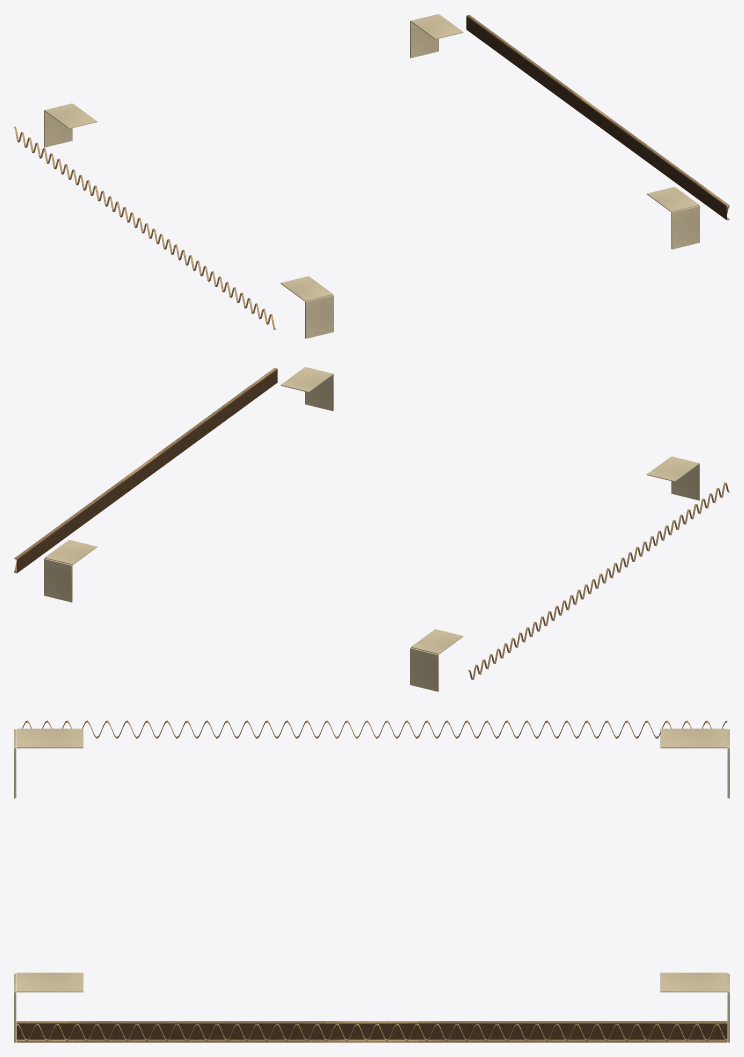
Rendered from 10-pencil-supported-box-5-2.fbx.
The picture shows the model from 3 angles, top to bottom: view 1: azimuth 30°, elevation 25°; view 2: azimuth 150°, elevation 25°; view 3: azimuth 270°, elevation 25°; orthographic projection. The views are drawn at different scales.
Visible parts, largest first — view 1: pencil-supported-box-5-2; view 2: pencil-supported-box-5-2; view 3: pencil-supported-box-5-2.
Boxes of the visible parts, bbox=[...] form: pencil-supported-box-5-2: bbox=[14, 14, 729, 338]; pencil-supported-box-5-2: bbox=[14, 367, 729, 691]; pencil-supported-box-5-2: bbox=[14, 720, 729, 1042].
Bounding box in the file's own units: 6472 × 509 × 6446.
Materials: 1 (1 with a texture image).
